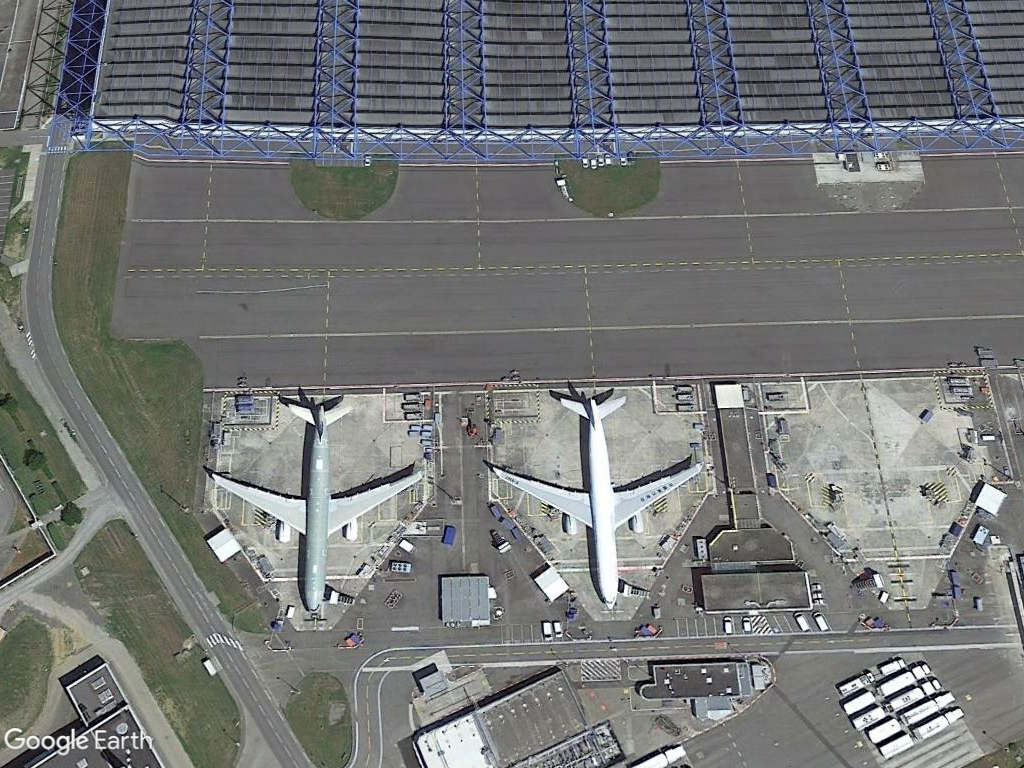airliner: (207, 393, 426, 621), (488, 391, 703, 614)
car: (538, 618, 555, 646), (721, 613, 735, 638)
stairtruck: (848, 568, 888, 592)
